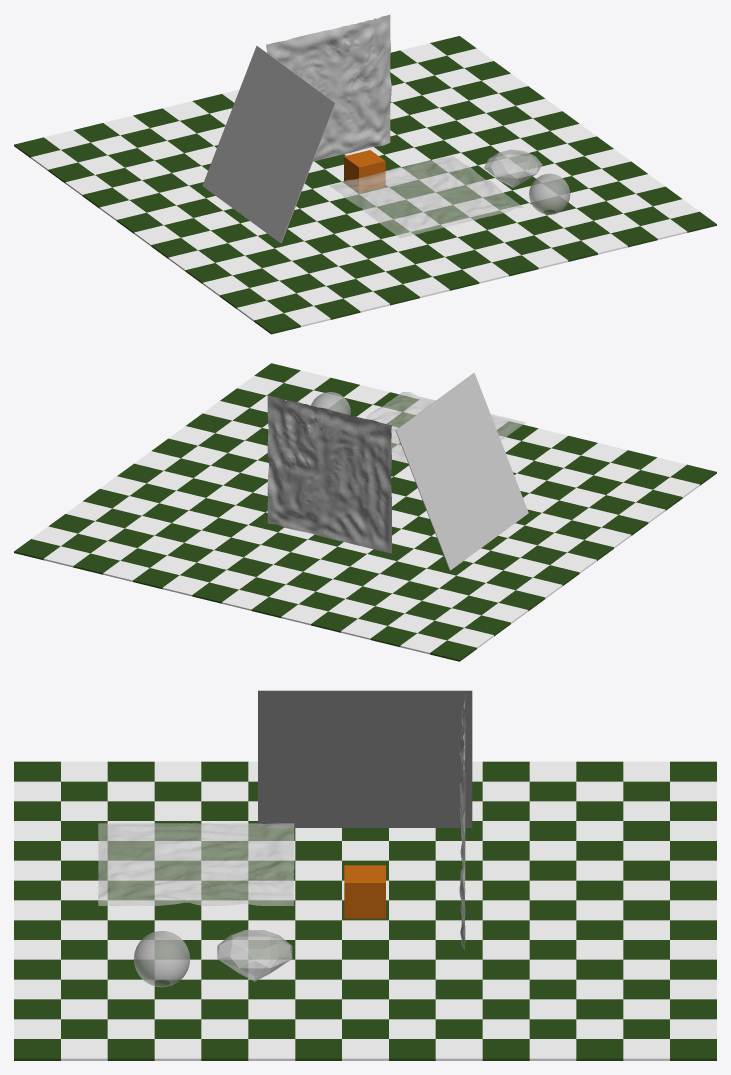
The model's file is CausticsTest.obj.
The picture shows the model from 3 angles, top to bottom: view 1: azimuth 30°, elevation 25°; view 2: azimuth 150°, elevation 25°; view 3: azimuth 270°, elevation 25°; orthographic projection. The views are drawn at different scales.
Parts seen in each view (by area): view 1: FloorBlockBlack, FloorBlockWhite, Plane.002, Plane.001, Plane.003, Cube, Gem, Sphere.001; view 2: FloorBlockBlack, FloorBlockWhite, Plane.001, Plane.002, Plane.003, Sphere.001; view 3: FloorBlockBlack, FloorBlockWhite, Plane.002, Plane.003, Gem, Sphere.001, Cube, Plane.001.
Part boxes in pixels (<box>): FloorBlockBlack: <box>14,36,716,334</box>; FloorBlockWhite: <box>31,43,699,326</box>; Plane.002: <box>202,46,335,243</box>; Plane.001: <box>266,14,391,161</box>; Plane.003: <box>329,155,523,238</box>; Cube: <box>344,150,385,193</box>; Gem: <box>484,149,542,187</box>; Sphere.001: <box>529,173,570,214</box>; FloorBlockBlack: <box>14,363,716,661</box>; FloorBlockWhite: <box>31,370,699,654</box>; Plane.001: <box>267,395,391,553</box>; Plane.002: <box>395,373,528,570</box>; Plane.003: <box>365,392,525,463</box>; Sphere.001: <box>311,392,350,415</box>; FloorBlockBlack: <box>14,761,716,1060</box>; FloorBlockWhite: <box>14,761,716,1060</box>; Plane.002: <box>258,690,472,827</box>; Plane.003: <box>98,823,294,905</box>; Gem: <box>217,930,292,981</box>; Sphere.001: <box>134,931,190,987</box>; Cube: <box>344,865,385,918</box>; Plane.001: <box>459,694,465,949</box>.
Bounding box in the file's own units: 7.18 × 2.02 × 7.18.
